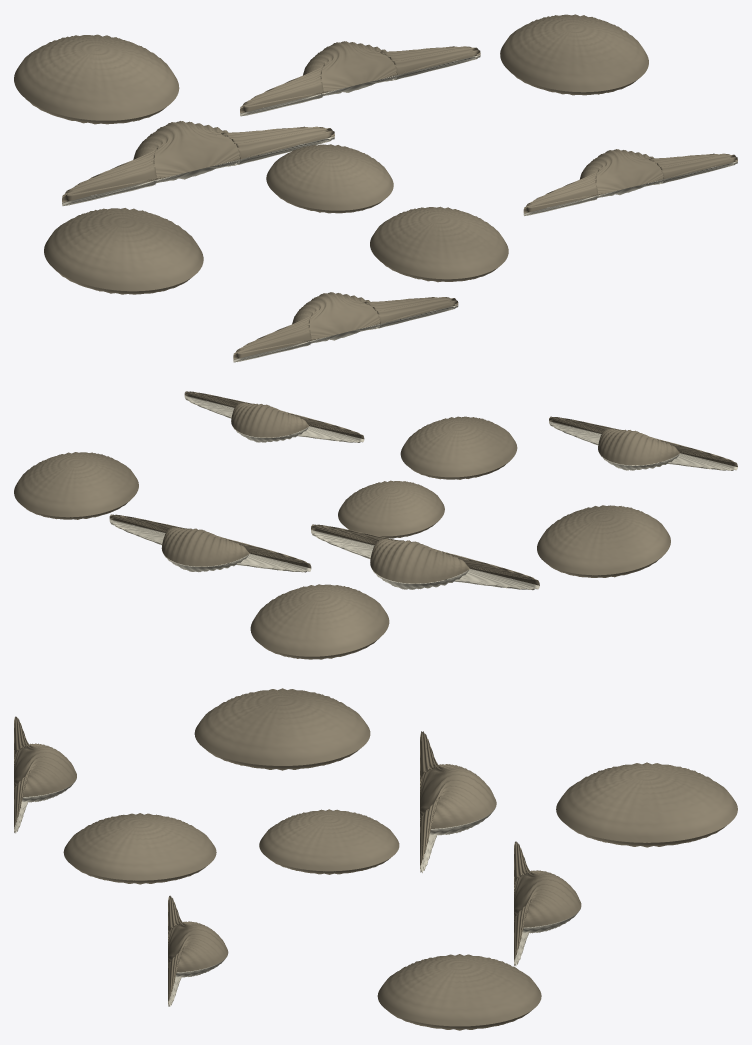
The model's file is brachiopod-bed.glb.
The picture shows the model from 3 angles, top to bottom: view 1: azimuth 30°, elevation 25°; view 2: azimuth 150°, elevation 25°; view 3: azimuth 270°, elevation 25°; orthographic projection. The views are drawn at different scales.
Visible parts, largest first — view 1: brachiopod-bed; view 2: brachiopod-bed; view 3: brachiopod-bed.
Boxes of the visible parts, bbox=[...] form: brachiopod-bed: bbox=[14, 14, 737, 362]; brachiopod-bed: bbox=[14, 391, 737, 659]; brachiopod-bed: bbox=[14, 688, 737, 1030].
Bounding box in the file's own units: 0.1486 × 0.012 × 0.1398.
